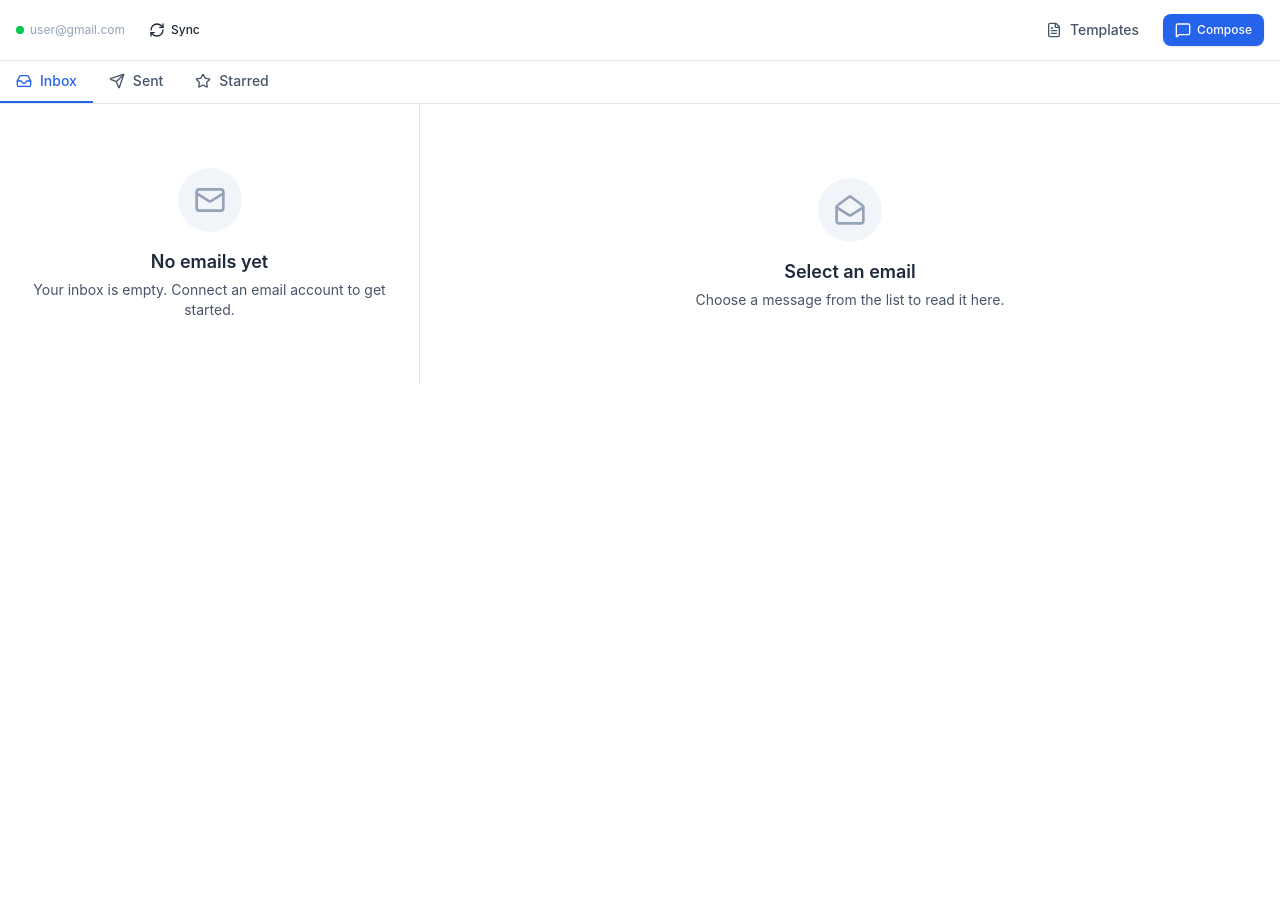
Scenario: EmailPage — Compose Modal › Discard button closes modal without sending
Click the button "Compose": (1214, 30) [1163,14,1264,46]
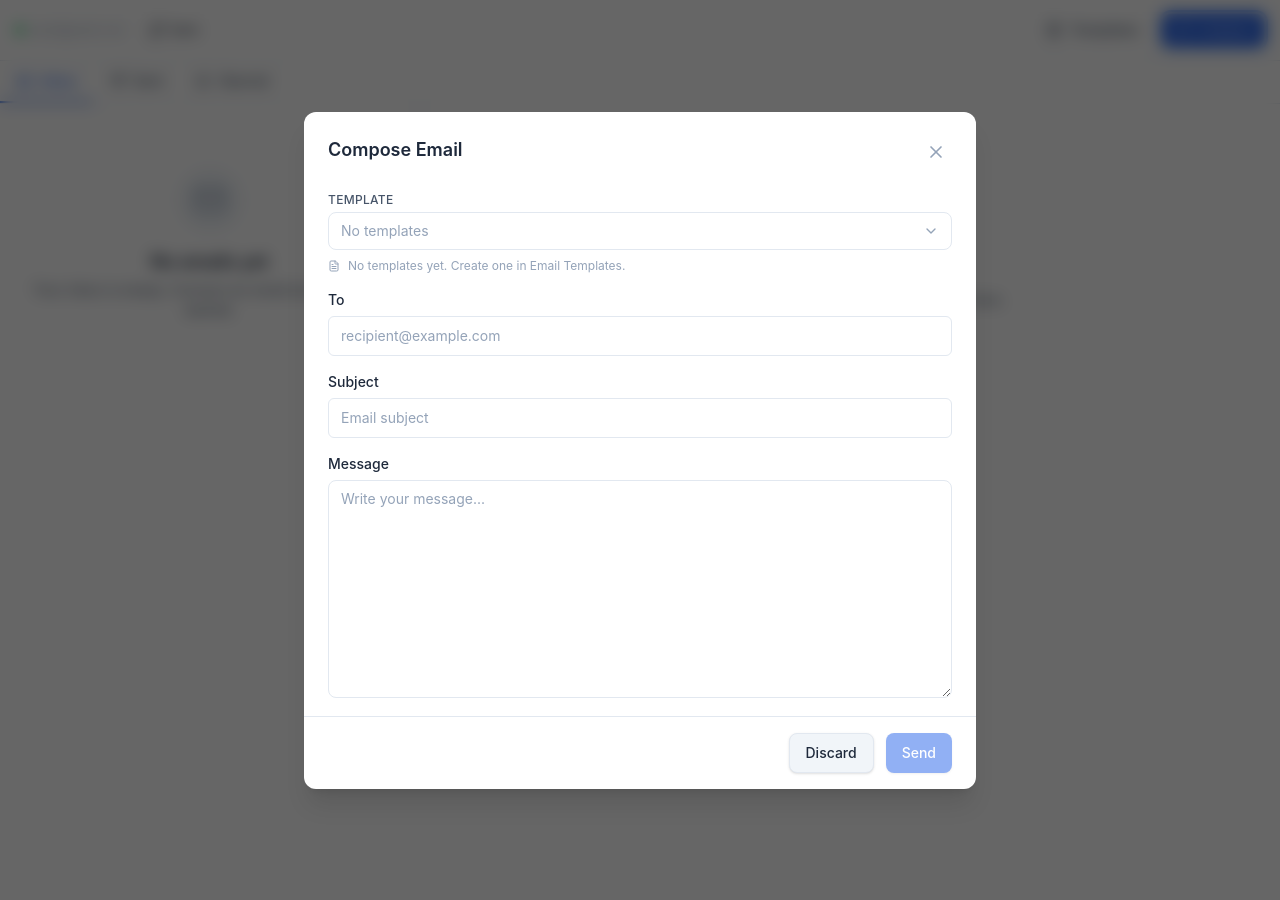
Expected: the heading "Compose Email" is shown, [328,138,463,160]
Click the button "Discard": (831, 752) [788,732,874,772]
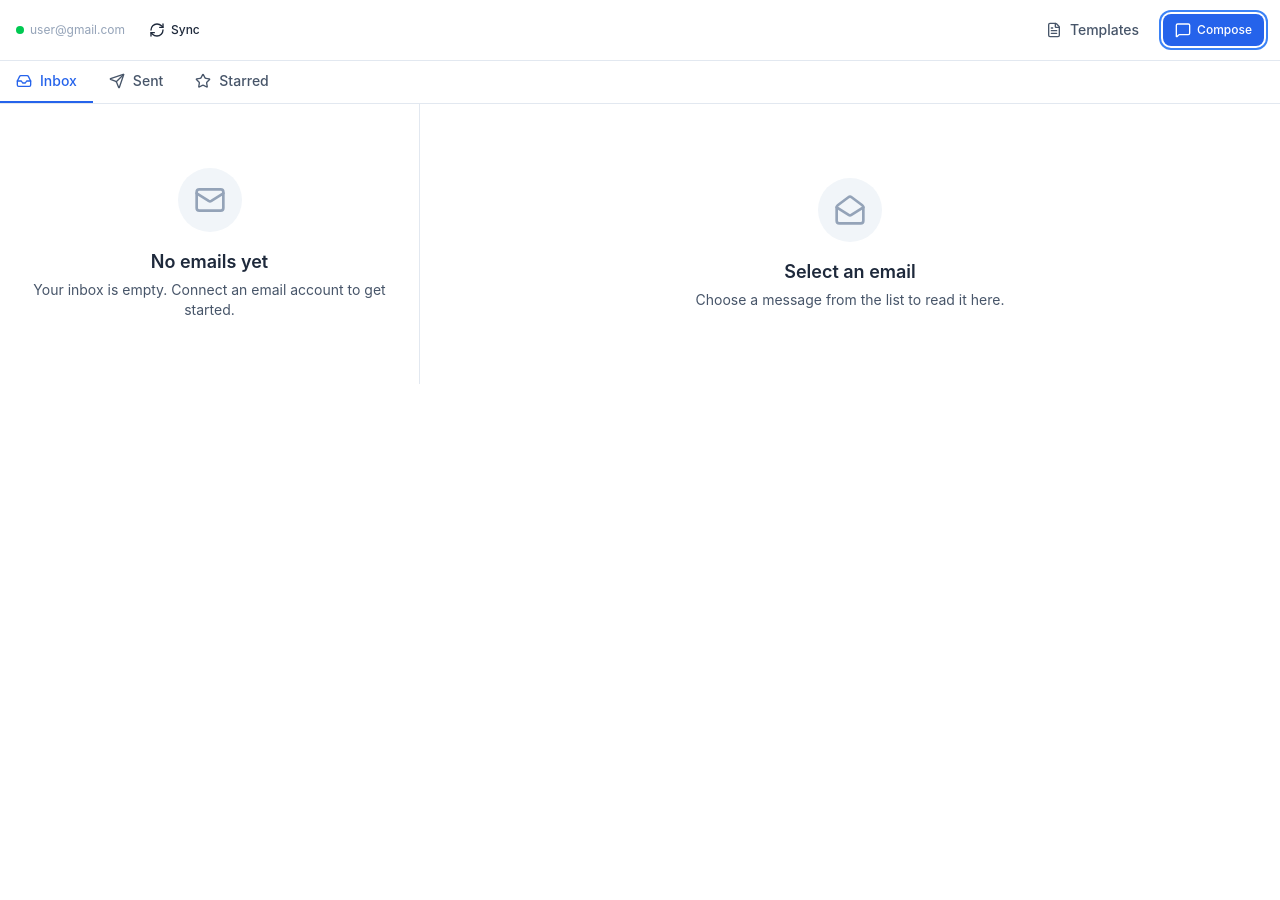
Expected: the heading "Compose Email" is gone
